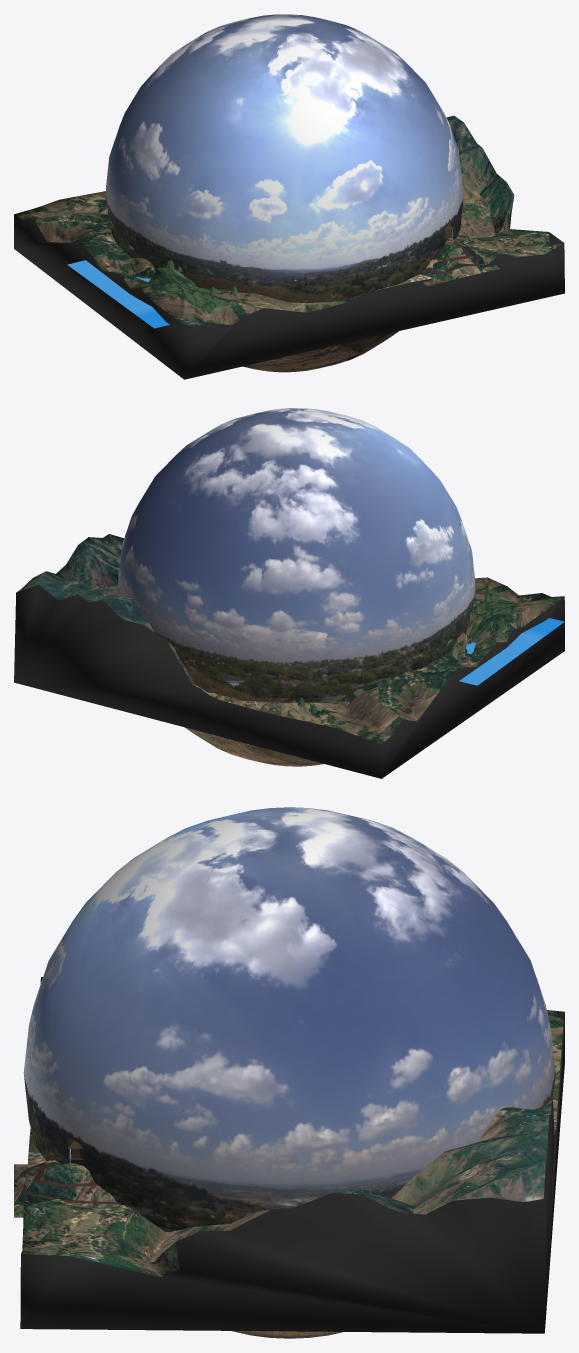
Rendered from Final submission.obj.
The picture shows the model from 3 angles, top to bottom: view 1: azimuth 30°, elevation 25°; view 2: azimuth 150°, elevation 25°; view 3: azimuth 270°, elevation 25°; orthographic projection. The views are drawn at different scales.
Parts seen in each view (by area): view 1: Sky_Sphere, Vagamon_terrain_EXPORT_GOOGLE_SAT_WM, tea_farm_Tea_ground_Cube.001_Cube.005, Reservoir_Plane; view 2: Sky_Sphere, Vagamon_terrain_EXPORT_GOOGLE_SAT_WM, Reservoir_Plane; view 3: Sky_Sphere, Vagamon_terrain_EXPORT_GOOGLE_SAT_WM, tea_farm_Tea_ground_Cube.001_Cube.005.
Boxes of the visible parts, x1,y1,x2,y2 form: Sky_Sphere: (105,14,463,372); Vagamon_terrain_EXPORT_GOOGLE_SAT_WM: (14,115,564,379); tea_farm_Tea_ground_Cube.001_Cube.005: (421,224,499,286); Reservoir_Plane: (67,260,169,328); Sky_Sphere: (117,408,475,766); Vagamon_terrain_EXPORT_GOOGLE_SAT_WM: (14,534,564,778); Reservoir_Plane: (459,618,564,685); Sky_Sphere: (23,807,555,1338); Vagamon_terrain_EXPORT_GOOGLE_SAT_WM: (20,977,564,1333); tea_farm_Tea_ground_Cube.001_Cube.005: (14,1140,120,1217).
Size of the model in its own units: 0.96 by 0.7542 by 0.7811.
